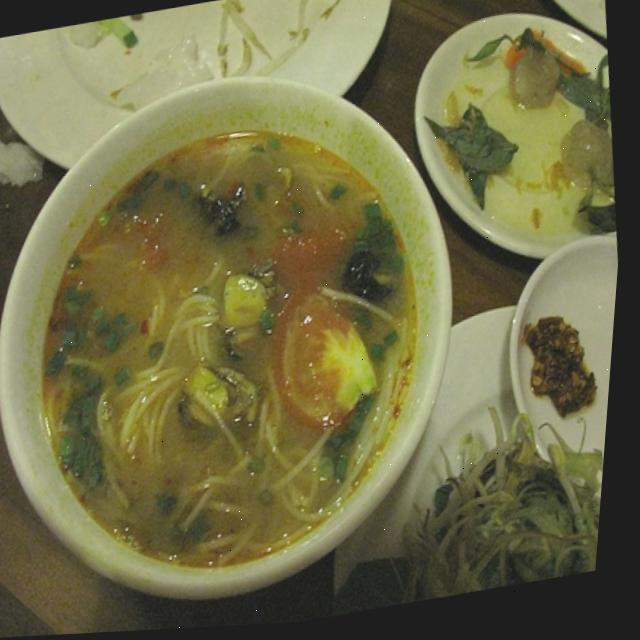面条主食: (0, 71, 492, 616)
